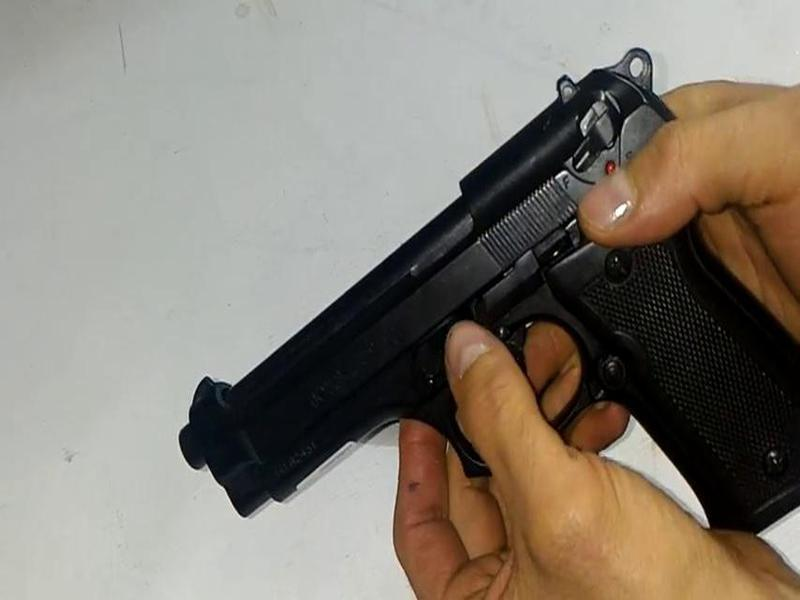Pistola: (136, 34, 800, 539)
